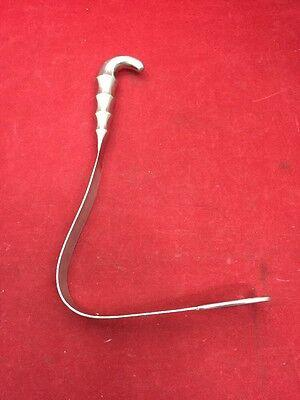Harrington Retractor: (52, 43, 276, 320)
